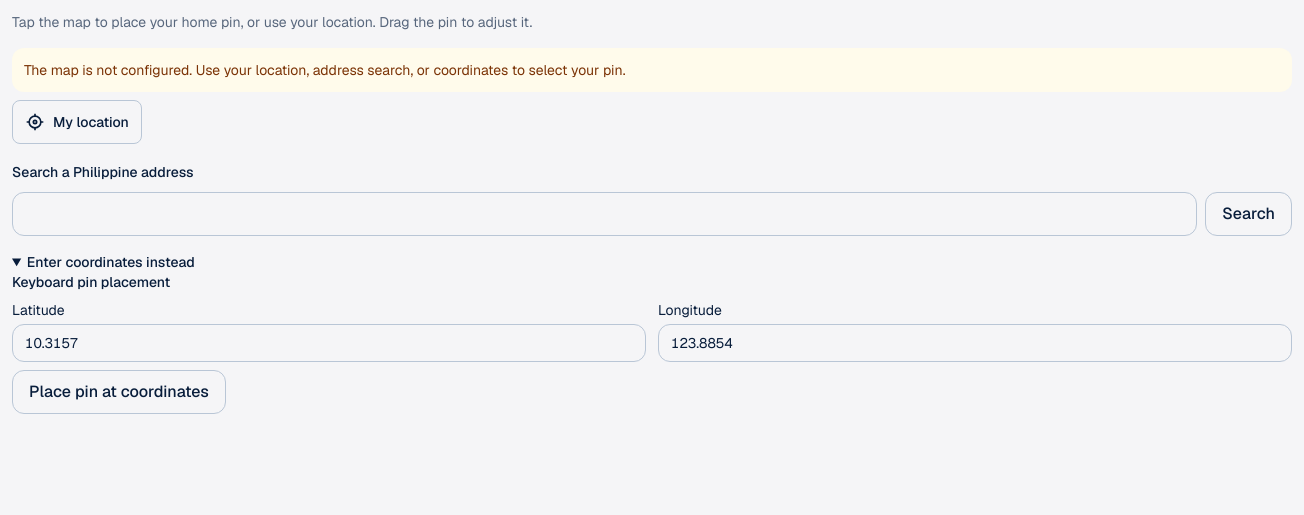
ResidentialMap fallbacks › removes earlier suggestions when the query changes and the next lookup fails
Type "Cebu" into the field labelled "Search a Philippine address" at x=605, y=214, box x1=12 y1=192 x2=1197 y2=236
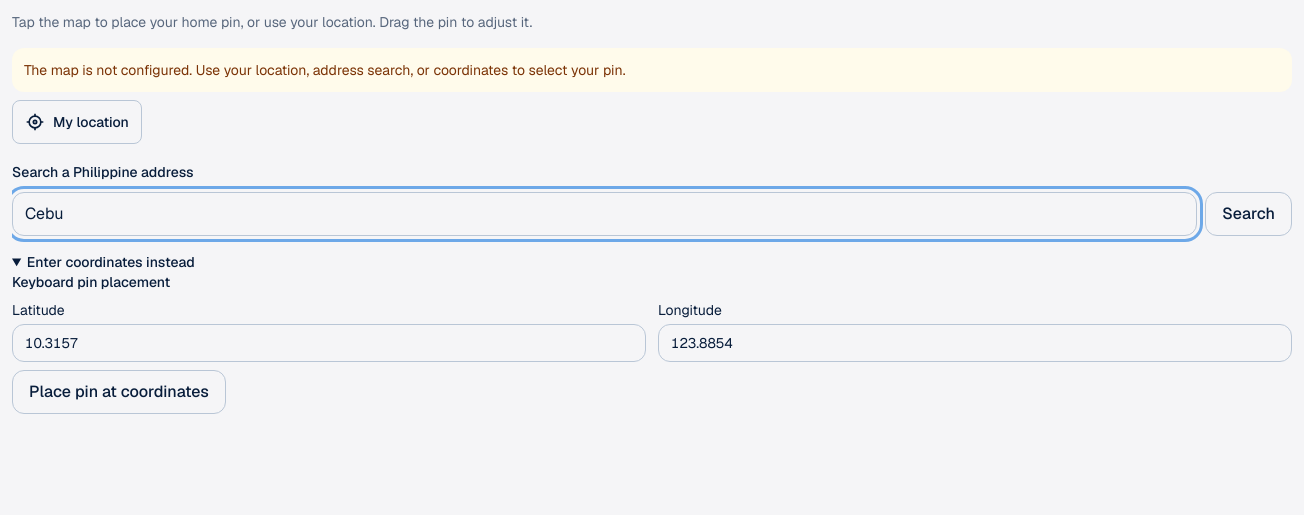
Click the button "Search" at x=1249, y=214, box x1=1205 y1=192 x2=1292 y2=236
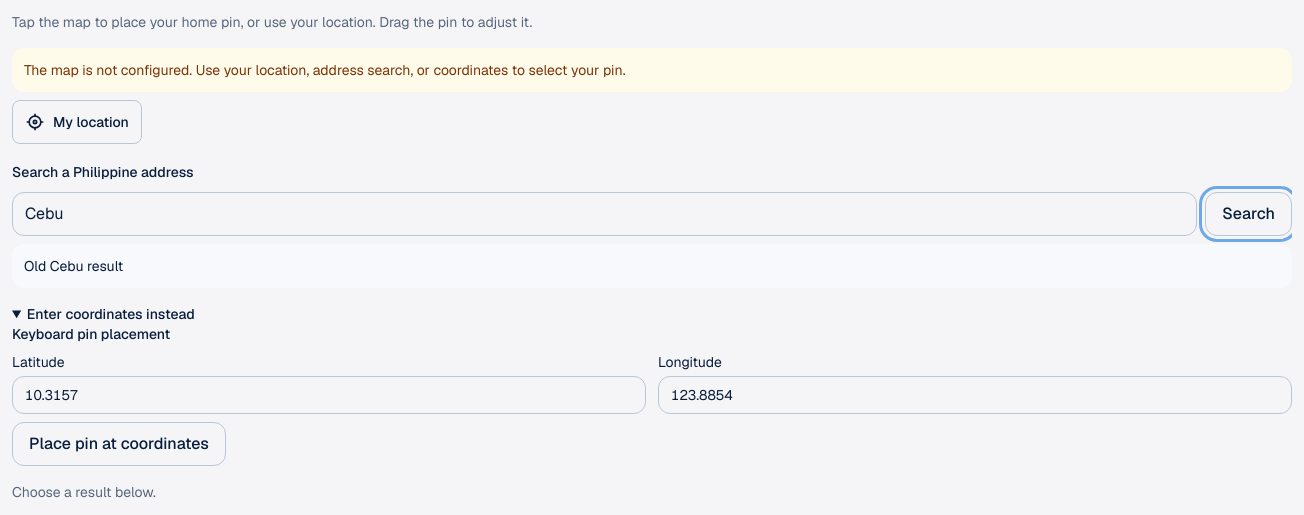
expect the button "Old Cebu result" is shown: met, box x1=12 y1=244 x2=1292 y2=288
Replace the text in the field labelled "Search a Philippine address" with "Mandaue" at x=605, y=214, box x1=12 y1=192 x2=1197 y2=236
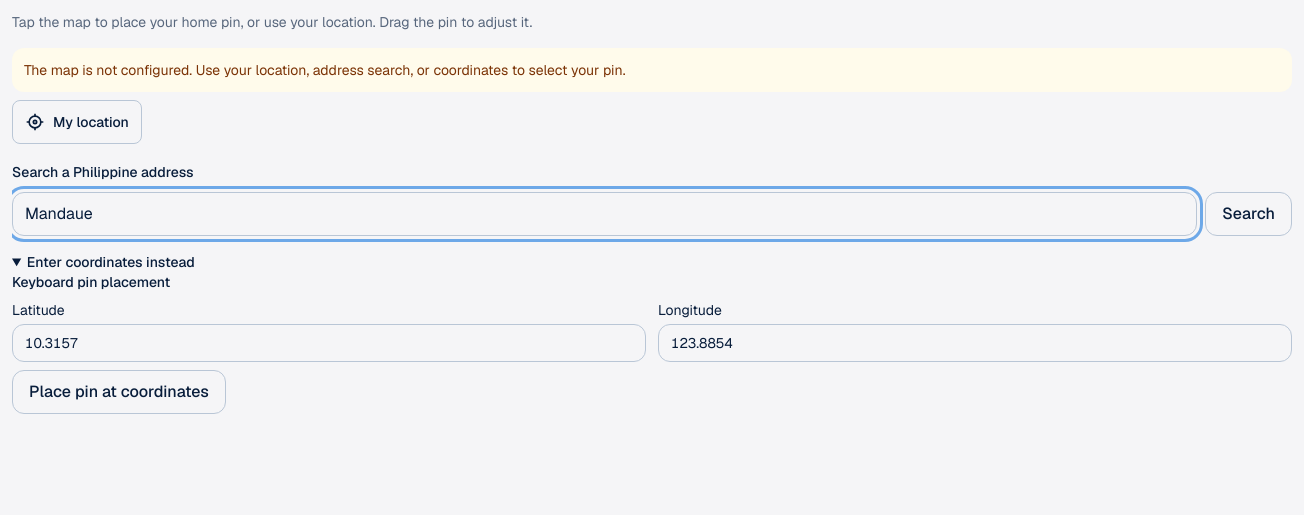
expect the button "Old Cebu result" is not shown: met
Click the button "Search" at x=1249, y=214, box x1=1205 y1=192 x2=1292 y2=236
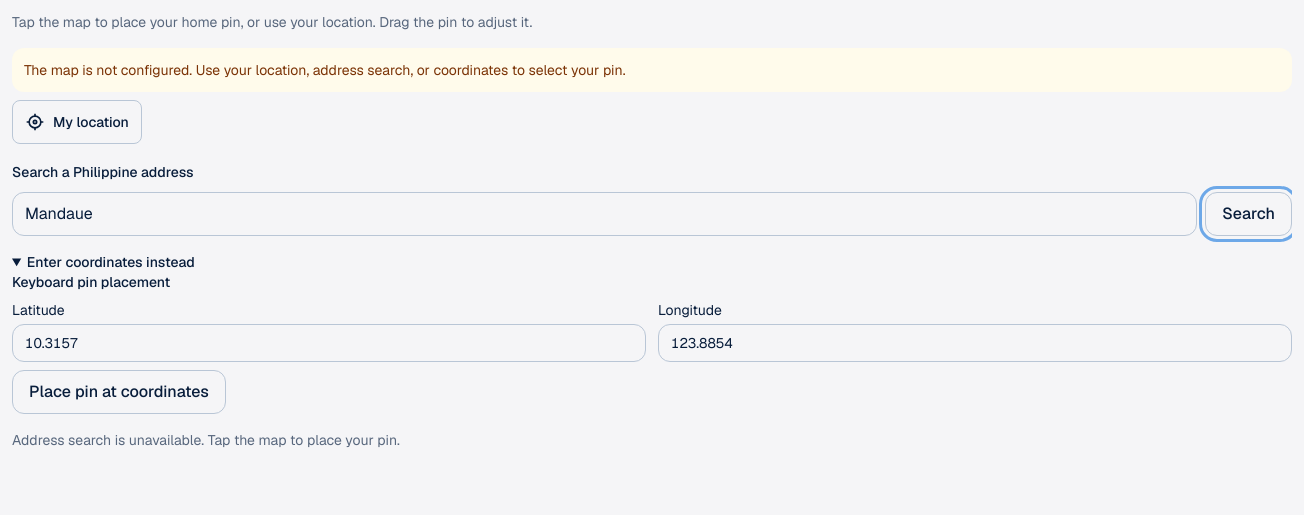
expect the text "Address search is unavailable" is shown: met, box x1=12 y1=431 x2=400 y2=449
